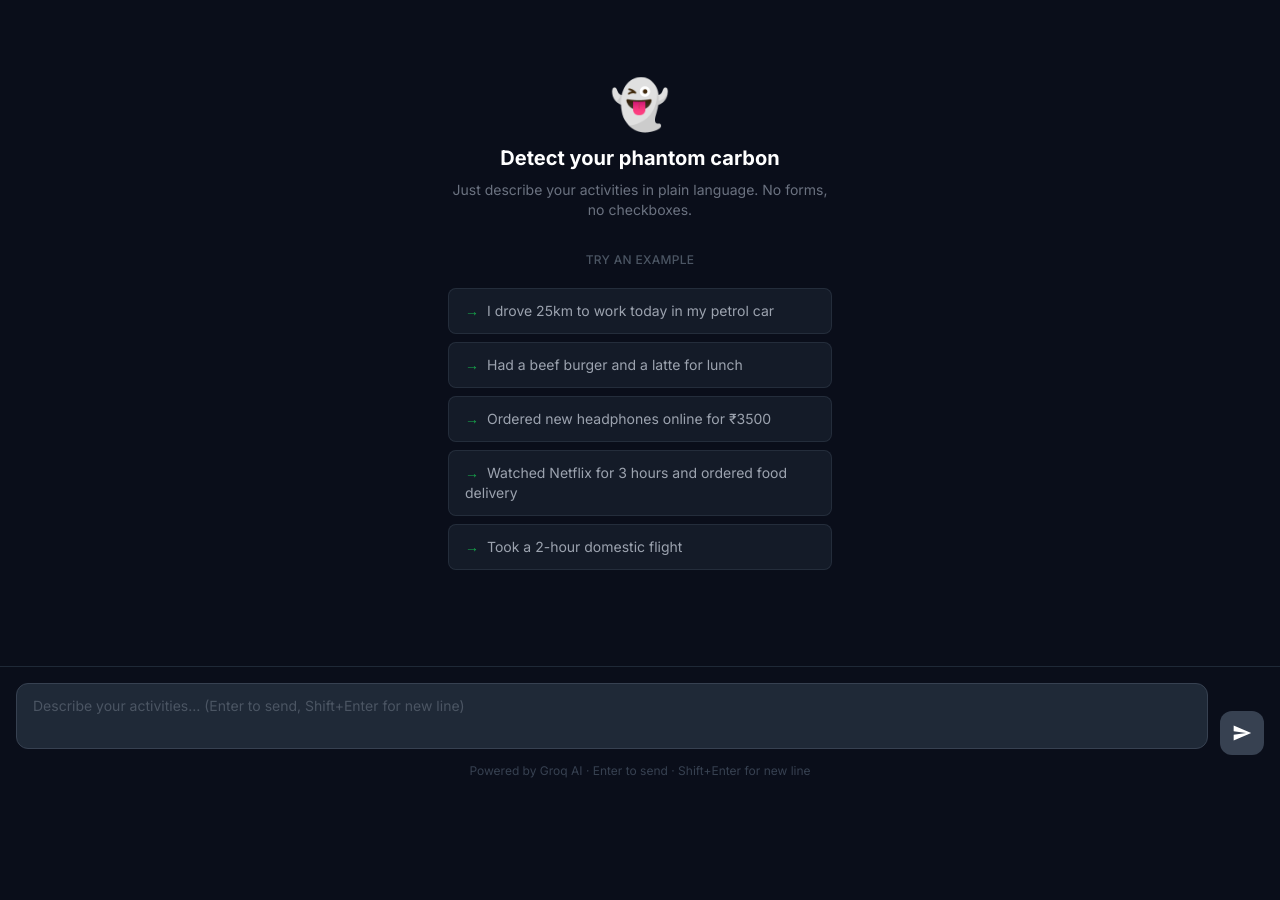
Scenario: ChatInterface › handles API error gracefully with user-friendly message
Type "I drove 10km to work today in my petrol car" into the text box named "Describe your carbon activities".
click(612, 716); type("I drove 10km to work today in my petrol car")  # box [16,683,1208,749]
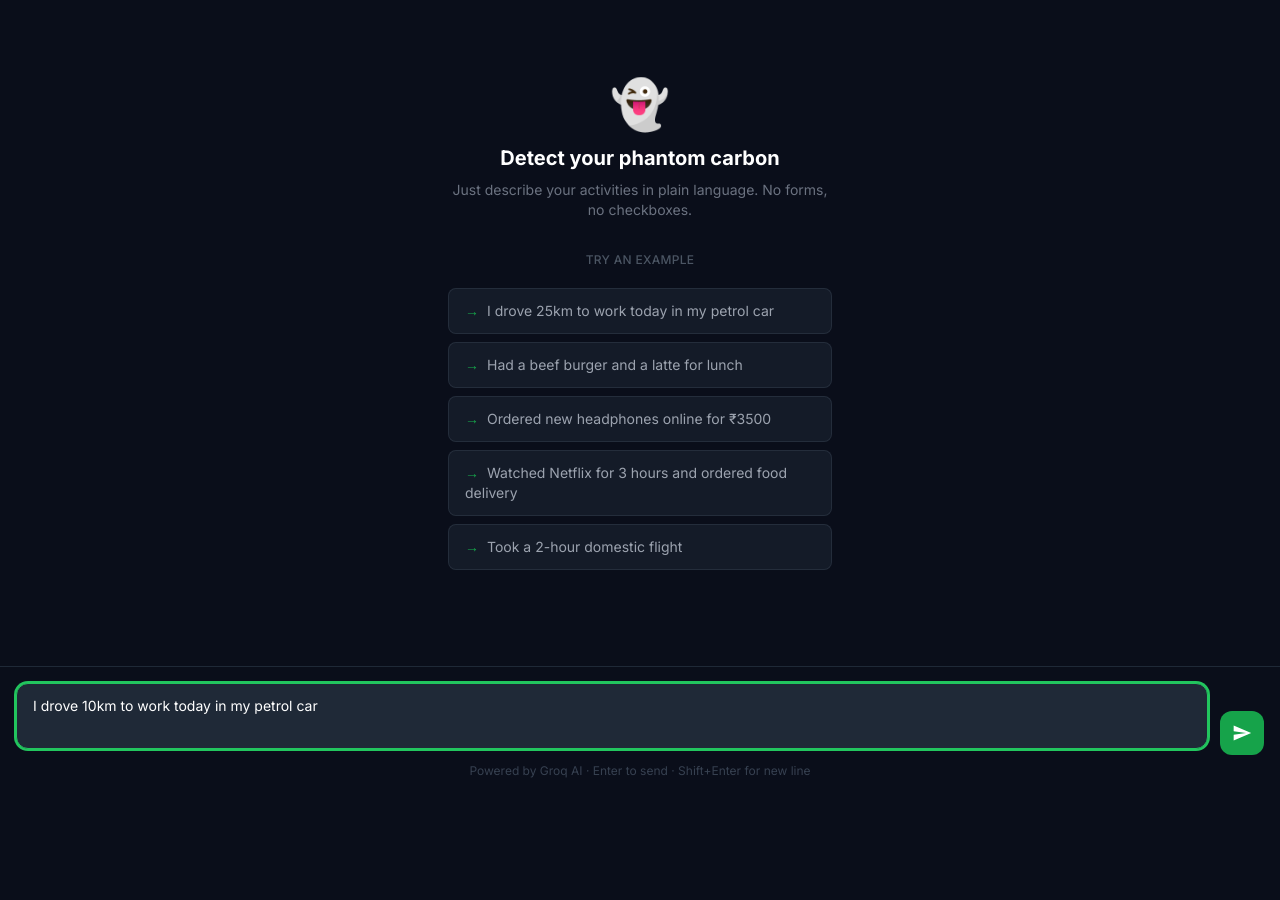
Click the button named "Send message".
click(1242, 733)  # box [1220,711,1264,755]
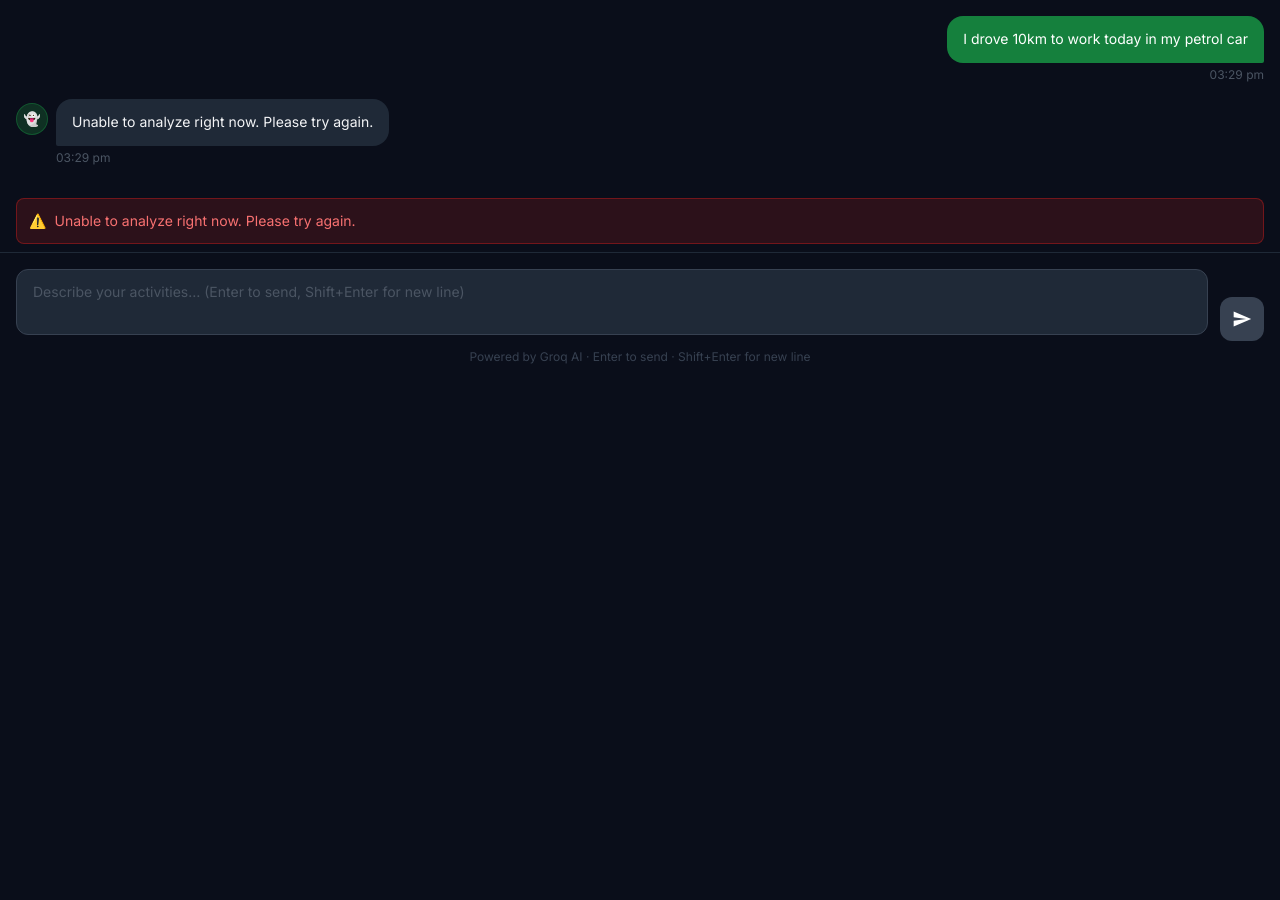
Expected: the text "Unable to analyze right now. Please try again." is shown, [72,111,373,134]
